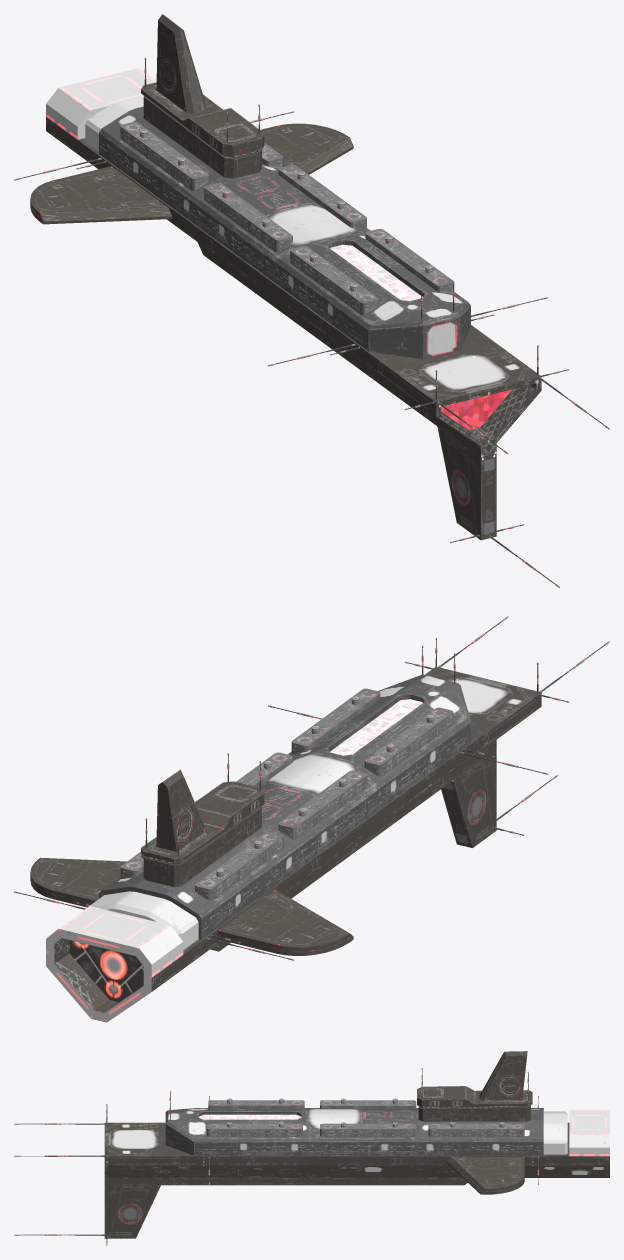
Rendered from FleetCarrier.fbx.
3 renders of one model, top to bottom at view 1: azimuth 30°, elevation 25°; view 2: azimuth 150°, elevation 25°; view 3: azimuth 270°, elevation 25°, orthographic. The views are drawn at different scales.
Parts seen in each view (by area): view 1: FleetCarrierUpperBody, FleetCarrierLowerBody, SideWing, FrontWing, CommandRoof, TopWing, SideWing1, CommandCenter, Facilities, Facilities5, Facilities2, Facilities3 (+1 smaller); view 2: FleetCarrierUpperBody, FleetCarrierLowerBody, SideWing, FrontWing, CommandRoof, SideWing1, TopWing, CommandCenter, Facilities2, Facilities5, Facilities, Facilities3 (+1 smaller); view 3: FleetCarrierLowerBody, FleetCarrierUpperBody, FrontWing, SideWing1, CommandRoof, CommandCenter, TopWing, Facilities4, Facilities1, Facilities3, Facilities5, Facilities2.
Boxes of the visible parts, <box> form: FleetCarrierUpperBody: <box>85,95,470,359</box>; FleetCarrierLowerBody: <box>46,68,541,457</box>; SideWing: <box>30,166,172,224</box>; FrontWing: <box>437,426,496,540</box>; CommandRoof: <box>141,82,264,156</box>; TopWing: <box>156,14,206,113</box>; SideWing1: <box>260,123,353,174</box>; CommandCenter: <box>143,96,261,178</box>; Facilities: <box>120,121,209,190</box>; Facilities5: <box>204,183,292,251</box>; Facilities2: <box>290,246,378,314</box>; Facilities3: <box>365,229,454,293</box>; FleetCarrierUpperBody: <box>87,675,470,949</box>; FleetCarrierLowerBody: <box>46,667,541,1022</box>; SideWing: <box>217,889,353,955</box>; FrontWing: <box>441,749,496,847</box>; CommandRoof: <box>141,781,264,862</box>; SideWing1: <box>30,857,126,907</box>; TopWing: <box>156,769,206,851</box>; CommandCenter: <box>143,807,261,887</box>; Facilities2: <box>364,707,453,776</box>; Facilities5: <box>278,770,367,839</box>; Facilities: <box>195,832,283,900</box>; Facilities3: <box>291,688,380,753</box>; FleetCarrierLowerBody: <box>104,1109,609,1185</box>; FleetCarrierUpperBody: <box>165,1108,567,1155</box>; FrontWing: <box>104,1184,160,1238</box>; SideWing1: <box>446,1157,524,1194</box>; CommandRoof: <box>417,1086,532,1107</box>; CommandCenter: <box>418,1105,530,1121</box>; TopWing: <box>479,1051,527,1100</box>; Facilities4: <box>320,1123,416,1137</box>; Facilities1: <box>428,1123,524,1136</box>; Facilities3: <box>206,1123,302,1136</box>; Facilities5: <box>320,1100,416,1109</box>; Facilities2: <box>208,1100,304,1109</box>.
Bounding box in the file's own units: 53.38 × 46.98 × 137.
